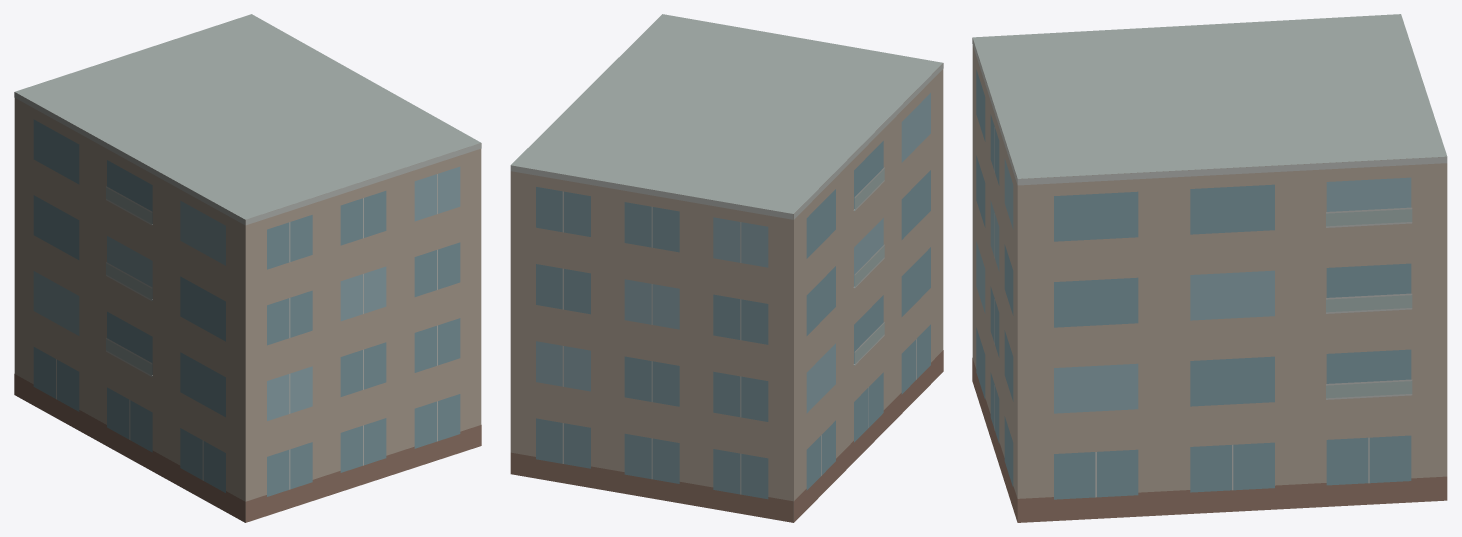
Rendered from survey-upis-33014685.glb.
3 views of the same model, side by side, from view 1: azimuth 30°, elevation 25°; view 2: azimuth 150°, elevation 25°; view 3: azimuth 270°, elevation 25° (orthographic). The views are drawn at different scales.
Visible parts, largest first — view 1: survey-upis-33014685.tmp; view 2: survey-upis-33014685.tmp; view 3: survey-upis-33014685.tmp.
Part boxes in pixels (box(x1,y1,x2,y2)): survey-upis-33014685.tmp: box(14, 14, 481, 522); survey-upis-33014685.tmp: box(510, 14, 943, 522); survey-upis-33014685.tmp: box(972, 14, 1447, 522).
Size of the model in its own units: 13.28 by 12.9 by 16.16.
